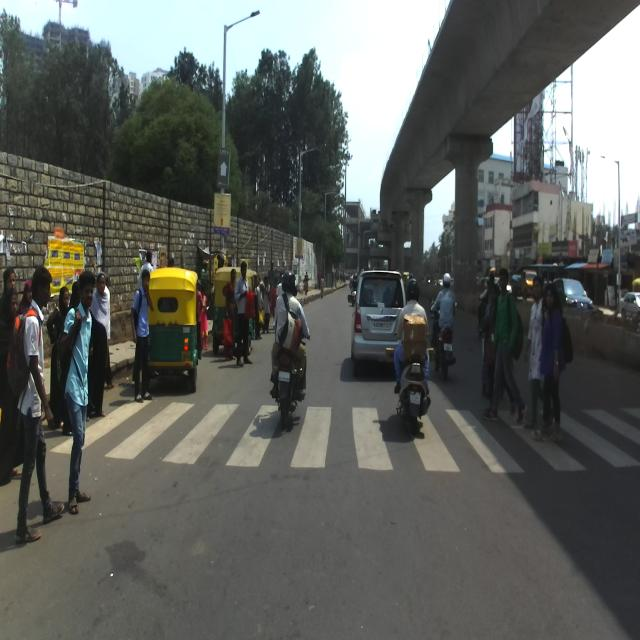auto ahead at: (152, 275, 204, 381)
car ahead at: (355, 270, 398, 362)
motorcycle ahead at: (269, 334, 310, 420), (396, 346, 433, 428)
person ahead at: (7, 261, 60, 543), (63, 273, 104, 527), (540, 285, 572, 434)
zebra crossing ahead at: (119, 398, 629, 474)
